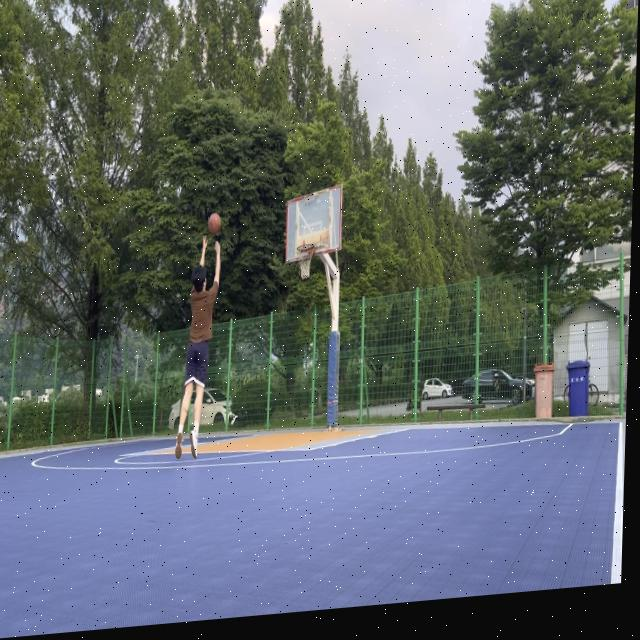basketball: (208, 211, 222, 236)
hoop: (296, 243, 315, 281)
